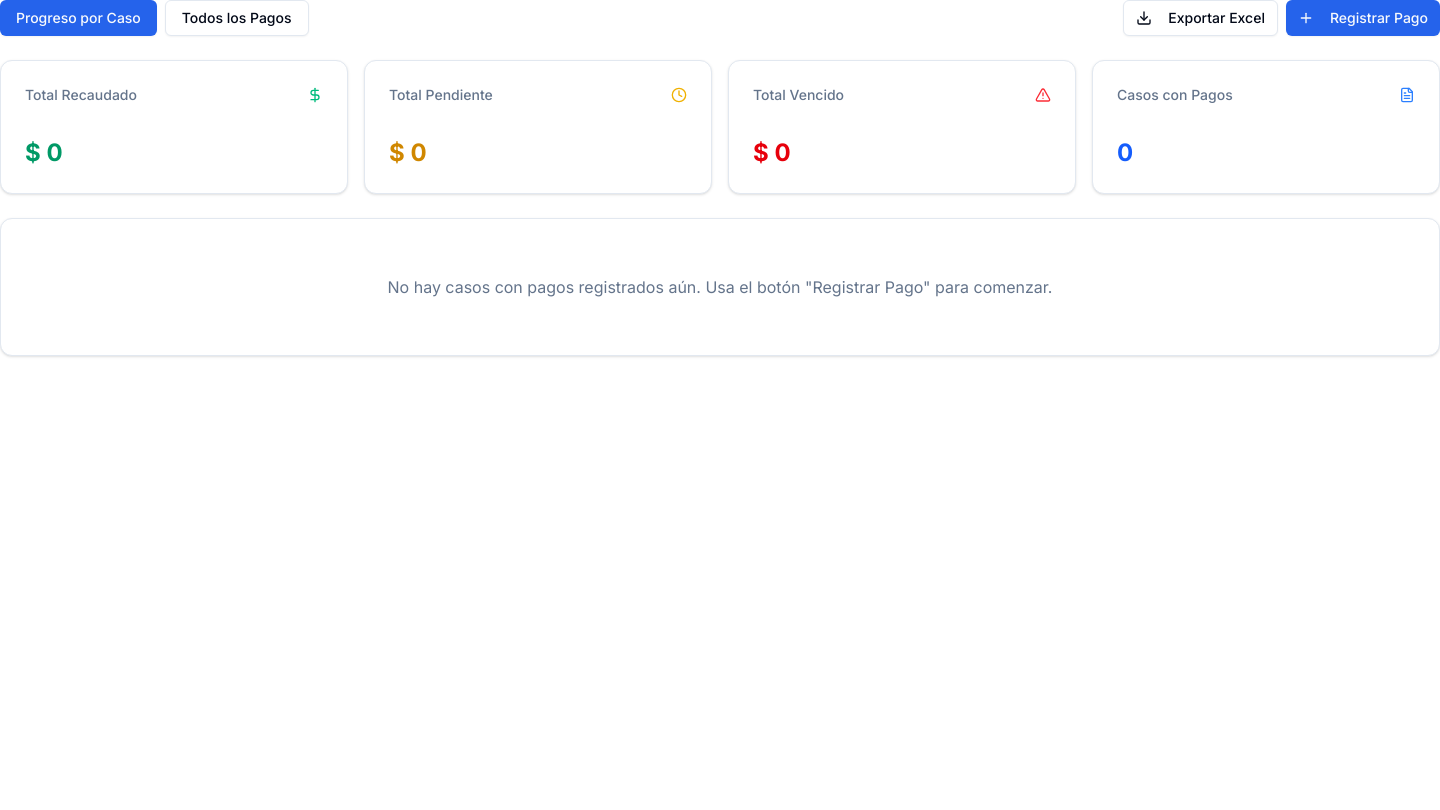
diálogo de pago en reporte de pagos › anuncia el límite real
The image size is (1440, 810).
Step 1. Click the button "Registrar Pago" → (1363, 18), box [1286,0,1439,36]
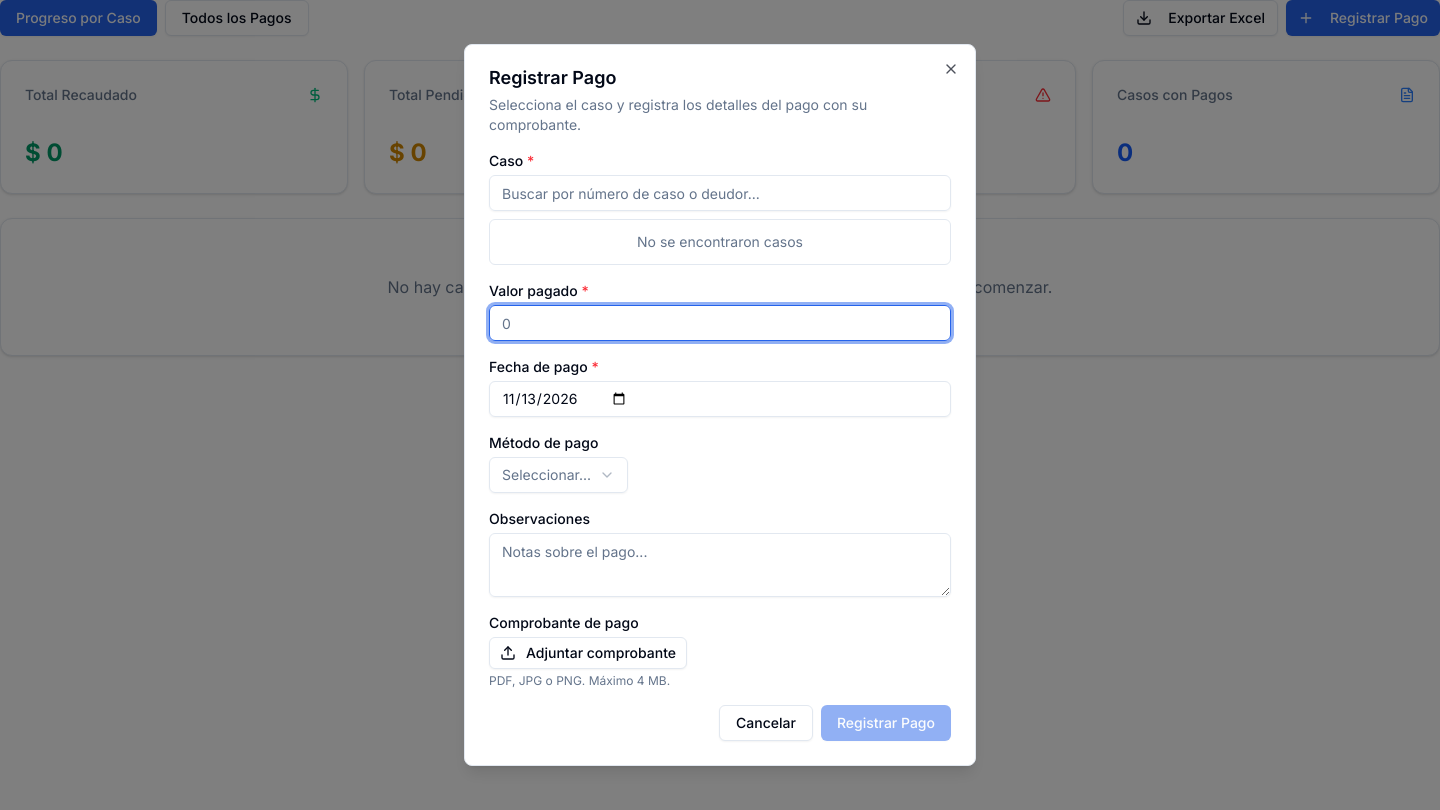
Expected: the dialog is shown, [464,44,976,766]
Expected: the text "PDF, JPG o PNG. Máximo 4 MB." is shown, [489,673,670,688]
